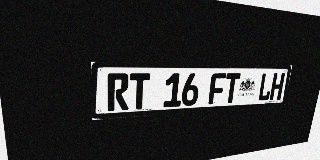1: (163, 73, 183, 107)
6: (181, 73, 200, 106)
F: (208, 73, 226, 104)
H: (269, 73, 285, 100)
L: (257, 73, 274, 101)
R: (107, 73, 129, 111)
T: (129, 73, 150, 110), (223, 73, 241, 103)
